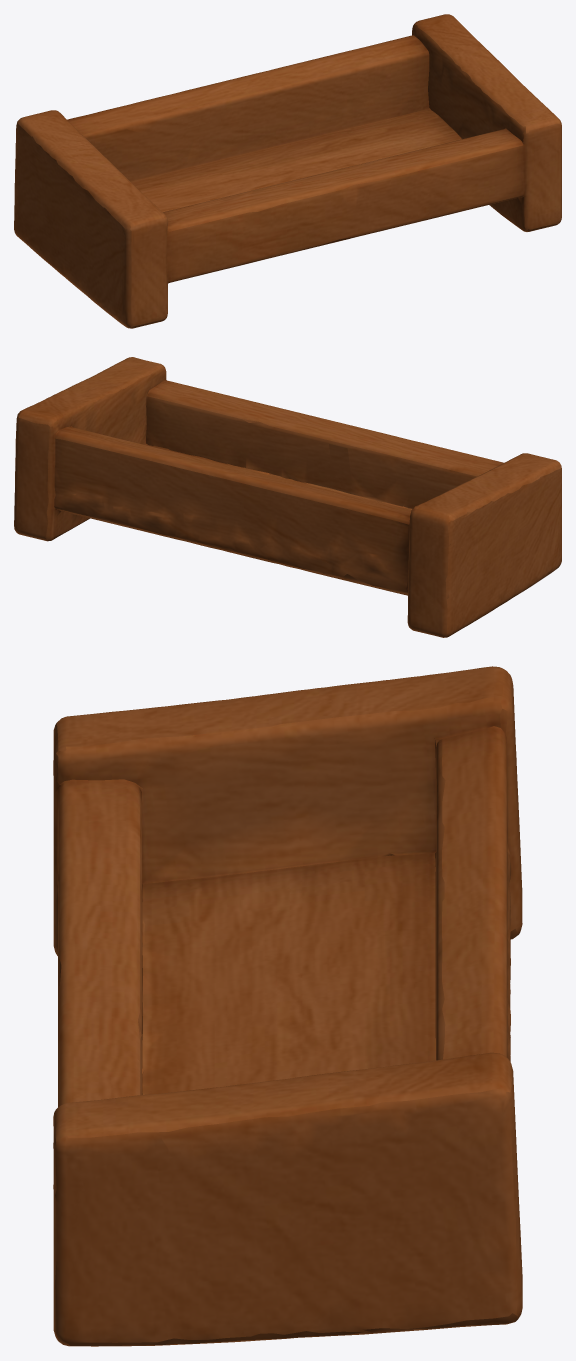
Rendered from cradle.glb.
3 views of the same model, one above another, from view 1: azimuth 30°, elevation 25°; view 2: azimuth 150°, elevation 25°; view 3: azimuth 270°, elevation 25° (orthographic). The views are drawn at different scales.
Visible parts, largest first — view 1: world; view 2: world; view 3: world.
Boxes of the visible parts, bbox=[...] form: world: bbox=[14, 14, 561, 328]; world: bbox=[14, 357, 561, 637]; world: bbox=[53, 666, 522, 1346].
Size of the model in its own units: 1 by 0.2914 by 0.4681.
Materials: 1 (1 with a texture image).
